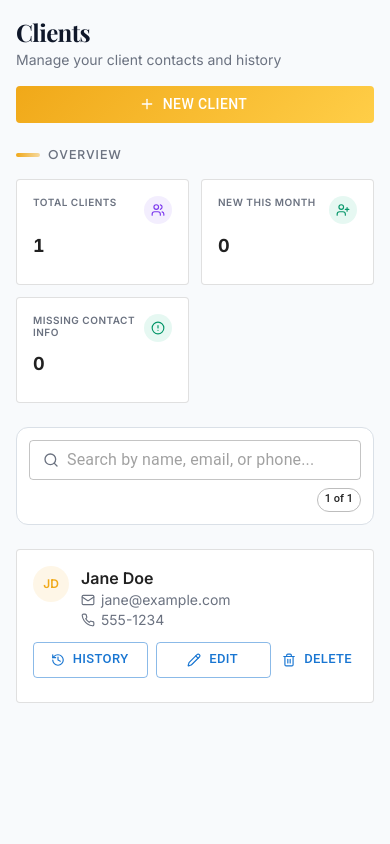
Scenario: Clients › edits an existing client, pre-filling the form
Later steps or results of the test are not shown.
Click the button "Edit": x=214, y=660 [156,642,271,678]
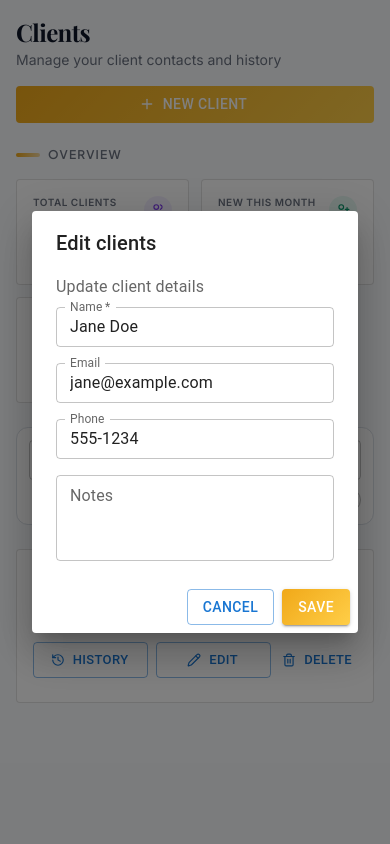
Expected: the field labelled "Name" holds "Jane Doe", [56,307,334,347]
